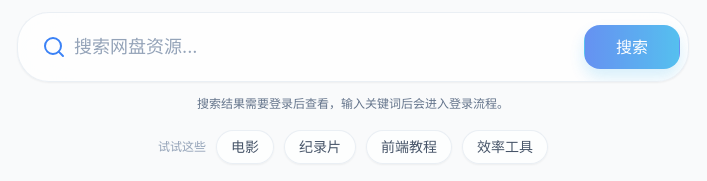
Test: SearchBox › 展示搜索访问提示时不影响输入和按钮状态
Expected: the text "搜索结果需要登录后查看，输入关键词后会进入登录流程。" is shown, [197,96,509,111]
Type "星际穿越" into the field with placeholder "搜索网盘资源...". click: [353, 47]
box: [18,13,688,81]
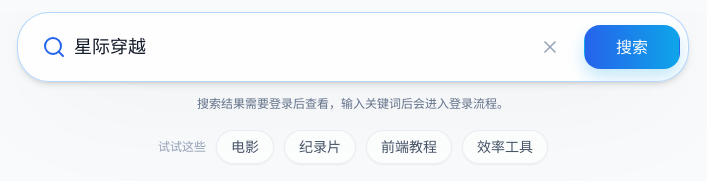
Result: the button "搜索" is enabled at [584,25,680,69]
